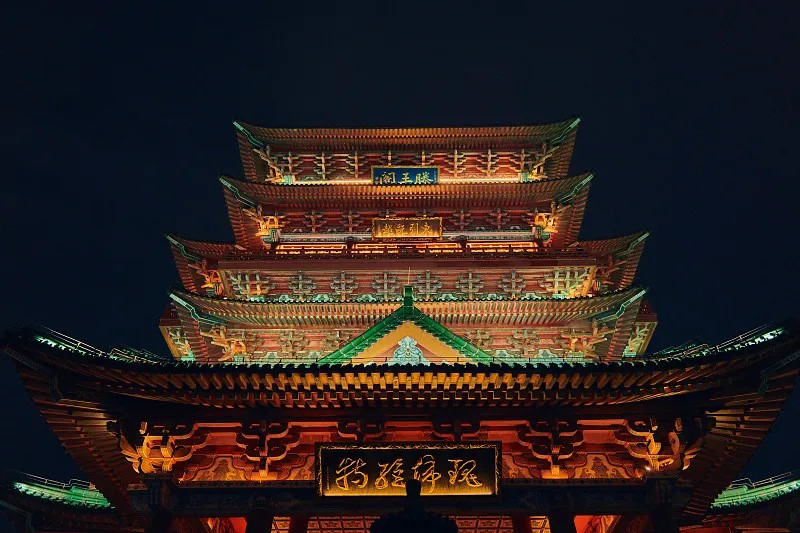Teng: (1, 122, 799, 533)
